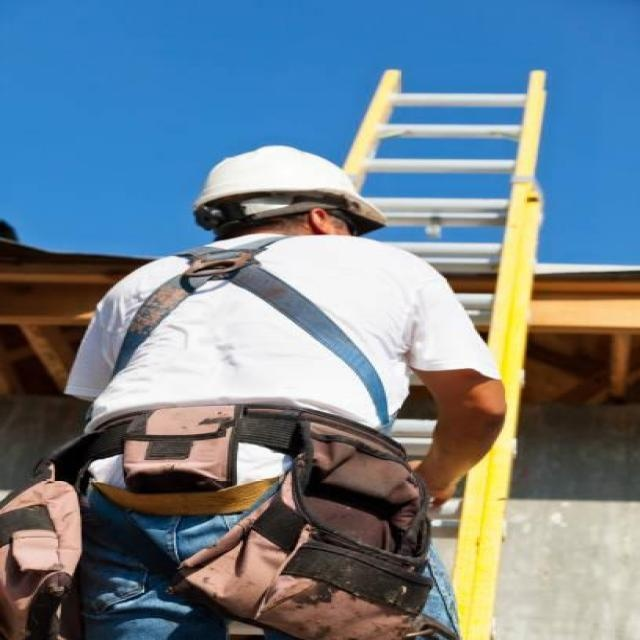Arnes_seguridad: (61, 232, 421, 609)
